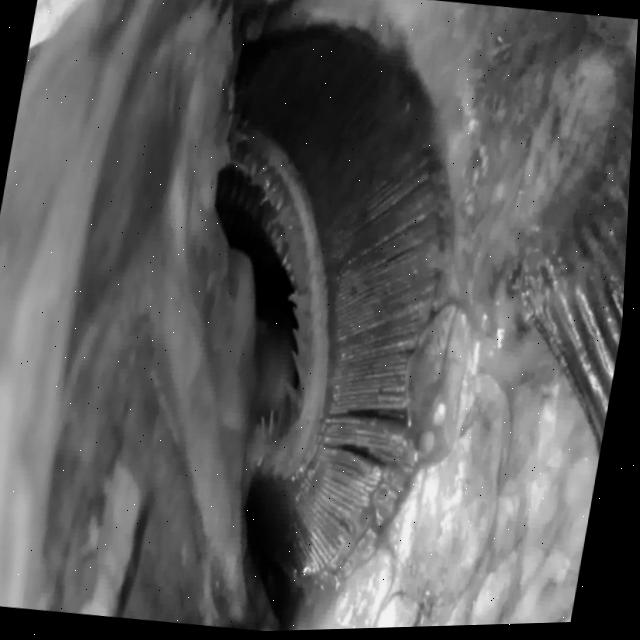Non-Fresh: (151, 6, 498, 614)
